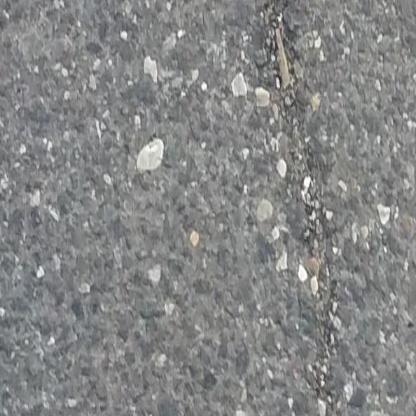Cracks: (264, 0, 338, 416)
